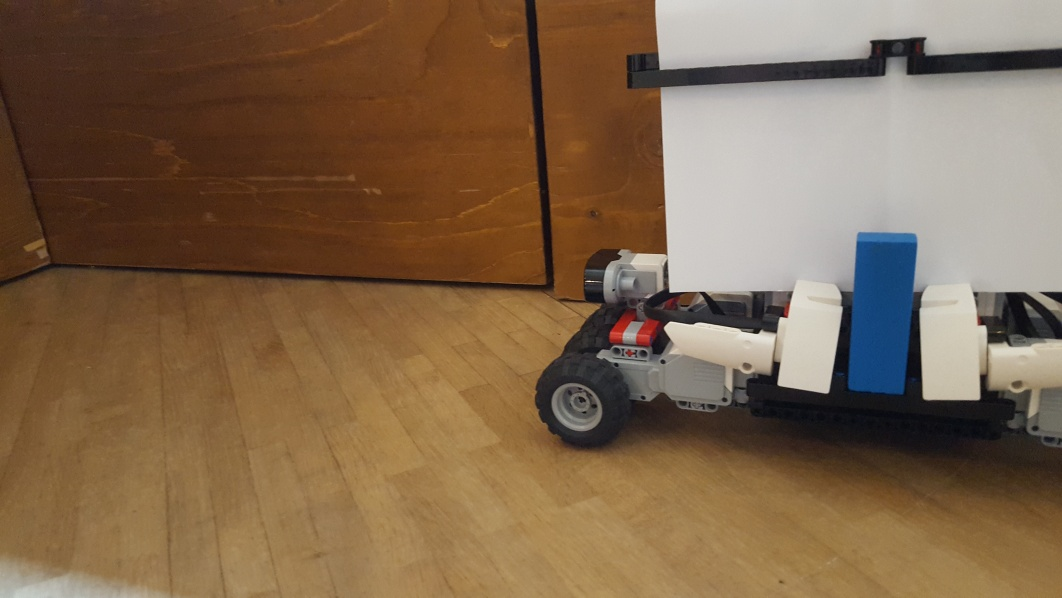beam: (846, 227, 918, 396)
